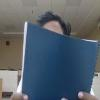notebook: (20, 20, 98, 99)
